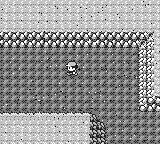captura: (0, 0, 160, 144)
main: (66, 61, 78, 76)
no-caminable: (1, 32, 159, 114), (0, 109, 91, 117), (89, 115, 105, 143)
